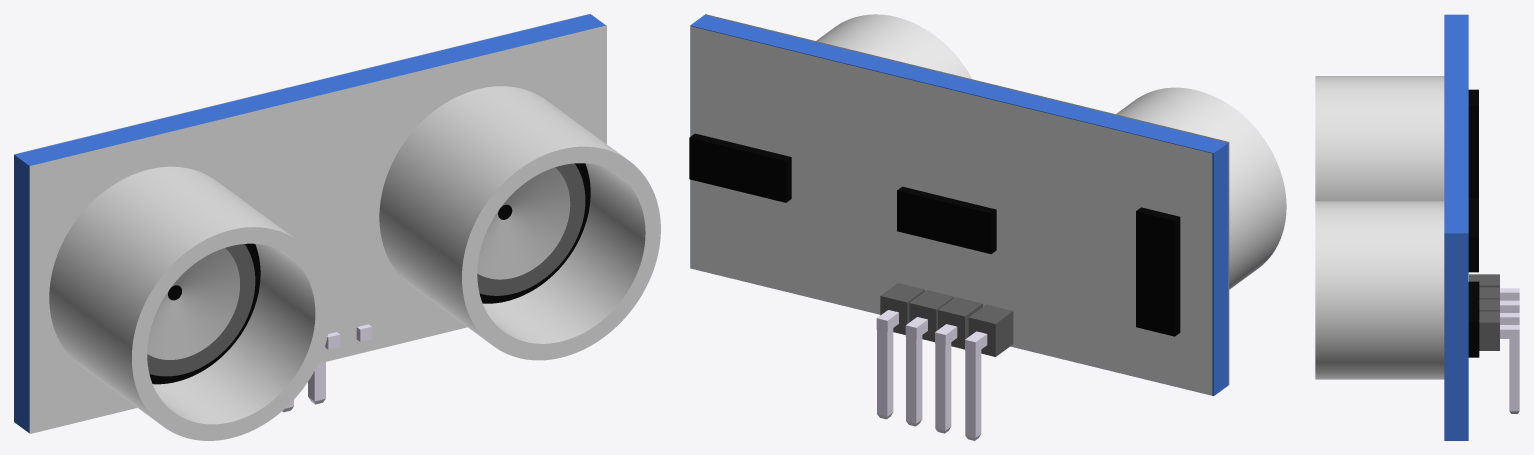
3 views of the same model, side by side, from view 1: azimuth 30°, elevation 25°; view 2: azimuth 150°, elevation 25°; view 3: azimuth 270°, elevation 25° (orthographic). The views are drawn at different scales.
Parts seen in each view (by area): view 1: hc-sr04 fort, Cylinder, Cylinder.002, Cube, Cube.010; view 2: hc-sr04 back, Cube, Cylinder, Cube.014, Cube.013, Cylinder.002, Cube.011, Cube.010, Cube.009, Cube.008, Cube.004, Cube.001 (+4 smaller); view 3: Cylinder.002, Cylinder, Cube, Cube.014, Cube.010, Cube.013, Cube.007, Cube.011, Cube.001, Cube.006, Cube.005, Cube.004 (+2 smaller).
Part boxes in pixels (x1=…): hc-sr04 fort: x1=29, y1=25, x2=606, y2=433; Cylinder: x1=49, y1=166, x2=330, y2=440; Cylinder.002: x1=379, y1=86, x2=660, y2=360; Cube: x1=14, y1=14, x2=605, y2=433; Cube.010: x1=308, y1=324, x2=371, y2=404; hc-sr04 back: x1=690, y1=26, x2=1212, y2=395; Cube: x1=690, y1=15, x2=1228, y2=395; Cylinder: x1=1116, y1=87, x2=1286, y2=289; Cube.014: x1=1136, y1=207, x2=1180, y2=336; Cube.013: x1=689, y1=133, x2=791, y2=202; Cylinder.002: x1=816, y1=14, x2=971, y2=78; Cube.011: x1=897, y1=186, x2=996, y2=254; Cube.010: x1=876, y1=310, x2=898, y2=419; Cube.009: x1=905, y1=317, x2=927, y2=426; Cube.008: x1=965, y1=331, x2=987, y2=440; Cube.004: x1=935, y1=324, x2=957, y2=433; Cube.001: x1=968, y1=304, x2=1013, y2=356; Cylinder.002: x1=1315, y1=201, x2=1444, y2=379; Cylinder: x1=1315, y1=76, x2=1444, y2=200; Cube: x1=1444, y1=14, x2=1468, y2=440; Cube.014: x1=1468, y1=89, x2=1478, y2=198; Cube.010: x1=1500, y1=325, x2=1519, y2=413; Cube.013: x1=1468, y1=281, x2=1479, y2=357; Cube.007: x1=1479, y1=311, x2=1499, y2=350; Cube.011: x1=1468, y1=198, x2=1478, y2=272; Cube.001: x1=1469, y1=274, x2=1499, y2=287; Cube.006: x1=1479, y1=299, x2=1499, y2=311; Cube.005: x1=1479, y1=287, x2=1499, y2=299; Cube.004: x1=1500, y1=300, x2=1519, y2=312.
Bounding box in the file's own units: 2.86 × 1.13 × 1.66.
